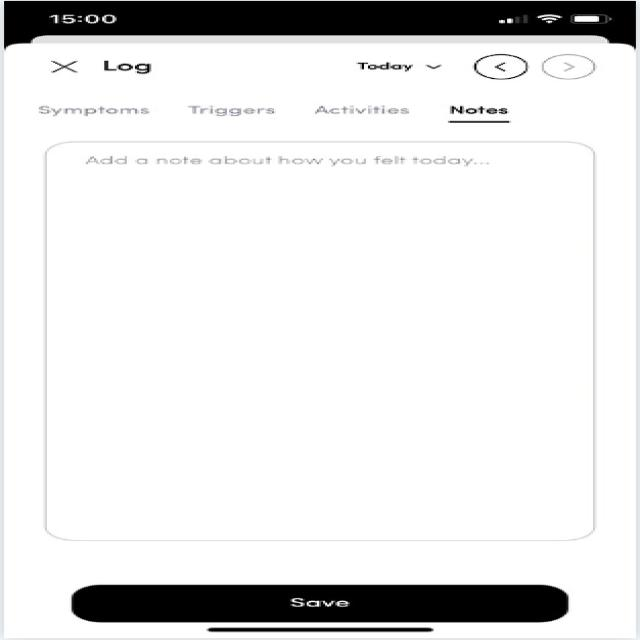button: (18, 576, 617, 628)
icon button: (30, 51, 96, 88), (544, 46, 605, 86), (474, 49, 533, 84)
input: (33, 133, 615, 550)
text: (30, 98, 533, 124)
